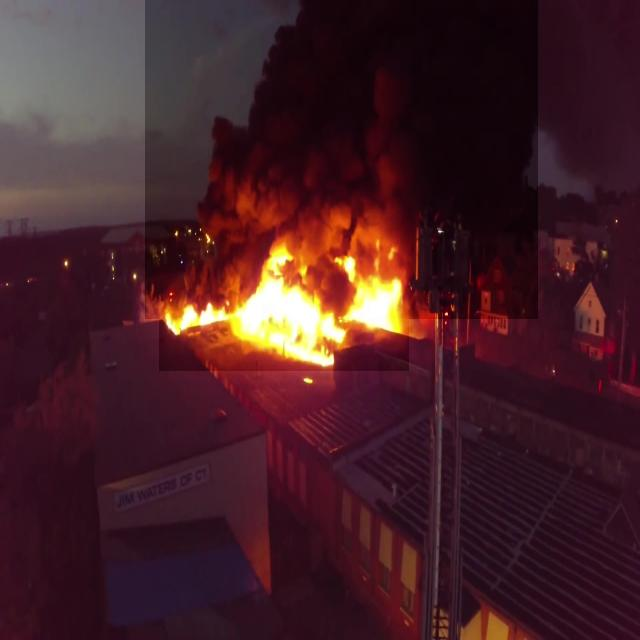Fire: (159, 242, 409, 371)
Smoke: (145, 0, 538, 319)
